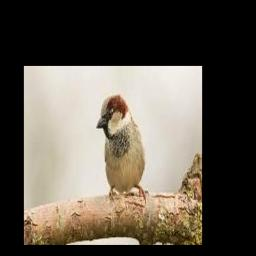Sparrow: (96, 94, 148, 204)
